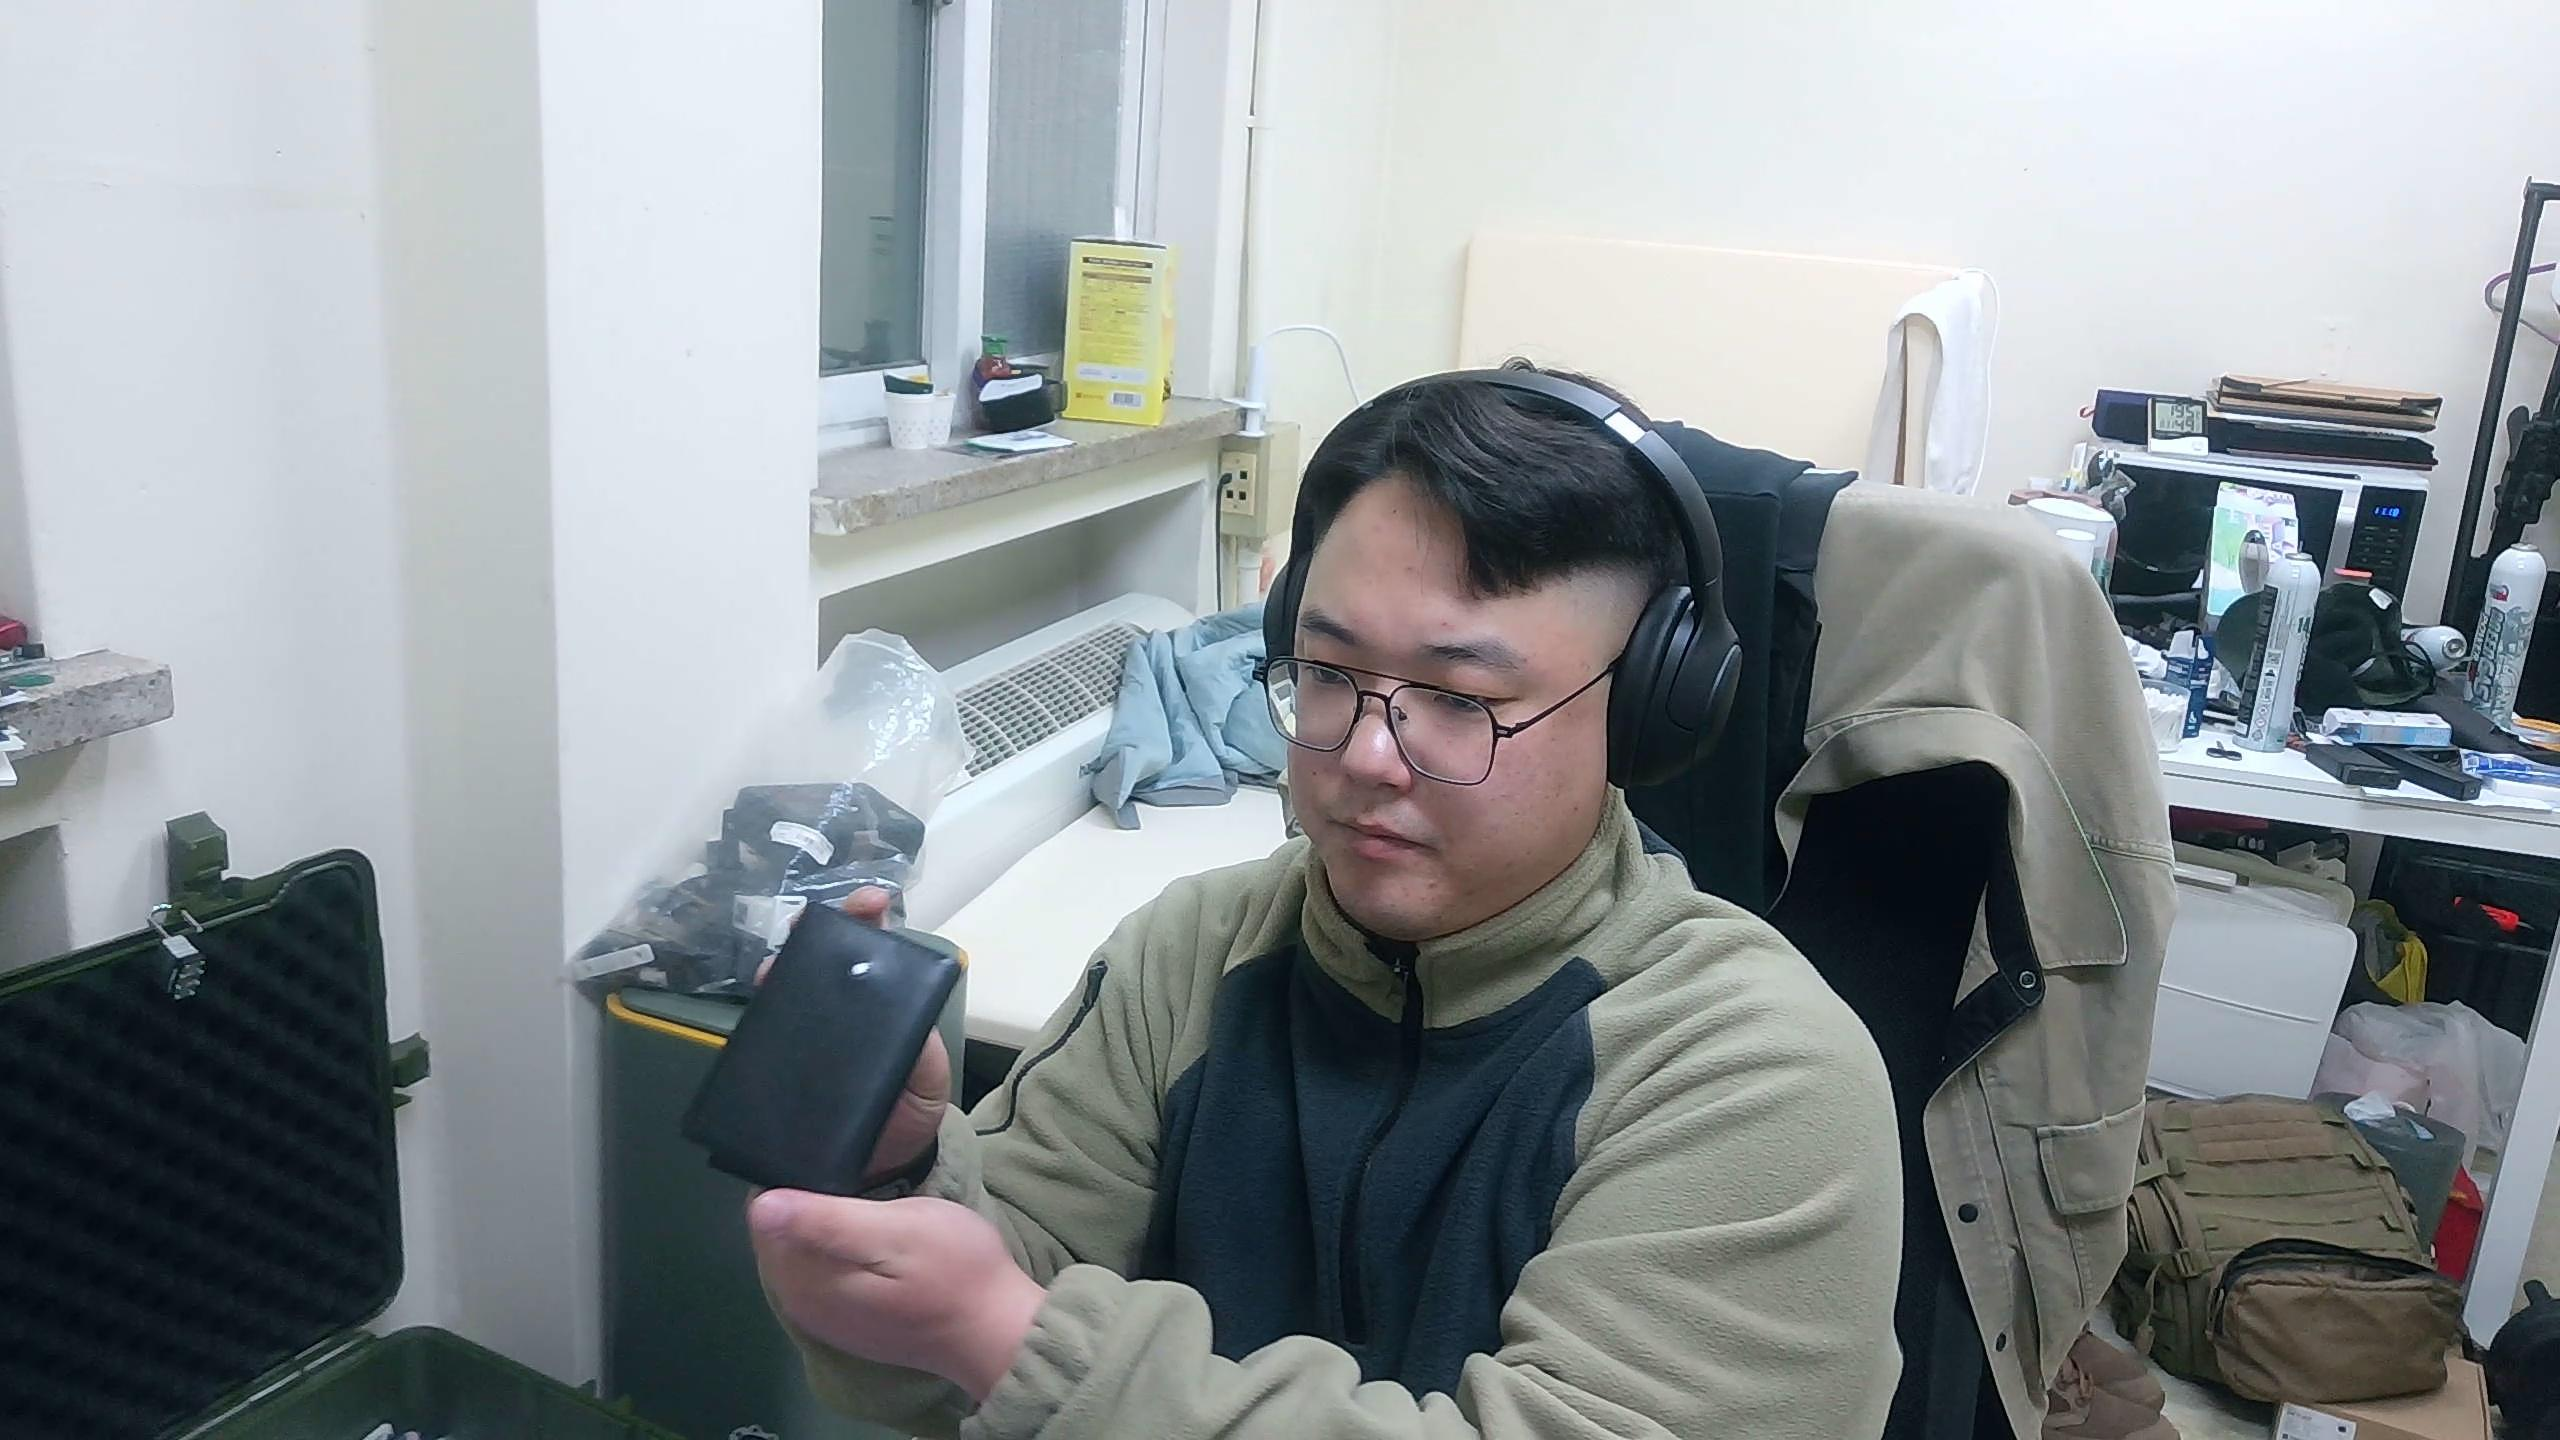Wallet: (680, 895, 972, 1201)
